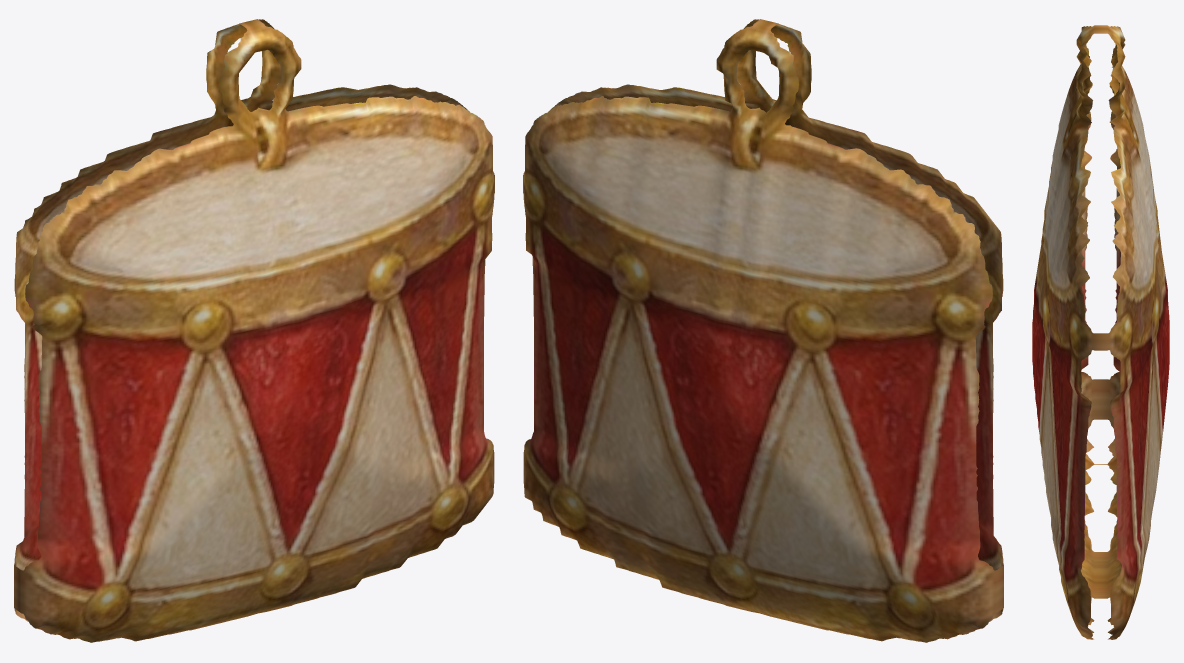
The model's file is Item_drum.glb.
The picture shows the model from 3 angles, left to right: view 1: azimuth 30°, elevation 25°; view 2: azimuth 150°, elevation 25°; view 3: azimuth 270°, elevation 25°; orthographic projection. The views are drawn at different scales.
Parts seen in each view (by area): view 1: Item_drum carving; view 2: Item_drum carving; view 3: Item_drum carving.
Boxes of the visible parts, x1,y1,x2,y2 form: Item_drum carving: [14, 19, 494, 642]; Item_drum carving: [523, 19, 1003, 642]; Item_drum carving: [1032, 25, 1169, 639].
Size of the model in its own units: 0.2297 by 0.2727 by 0.0615.
Materials: 1 (1 with a texture image).
